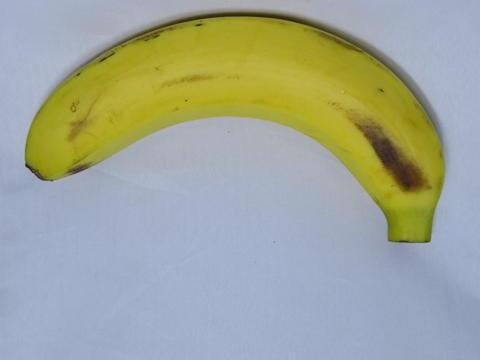freshripe: (14, 2, 460, 257)
